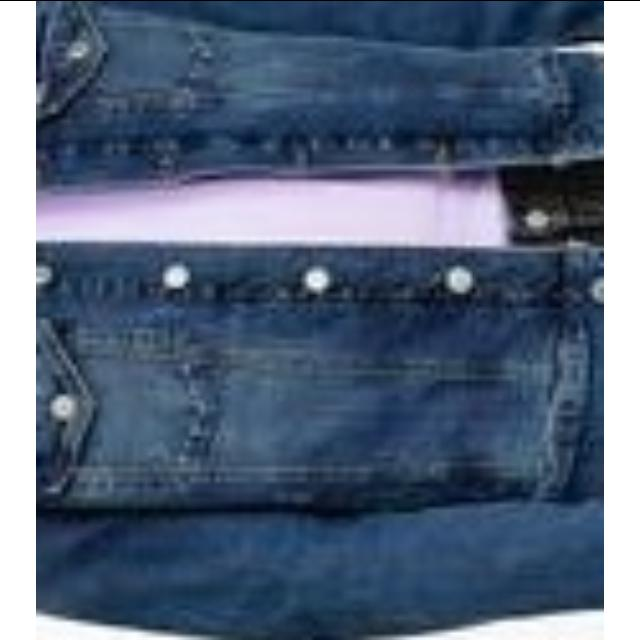denim: (36, 252, 604, 588)
